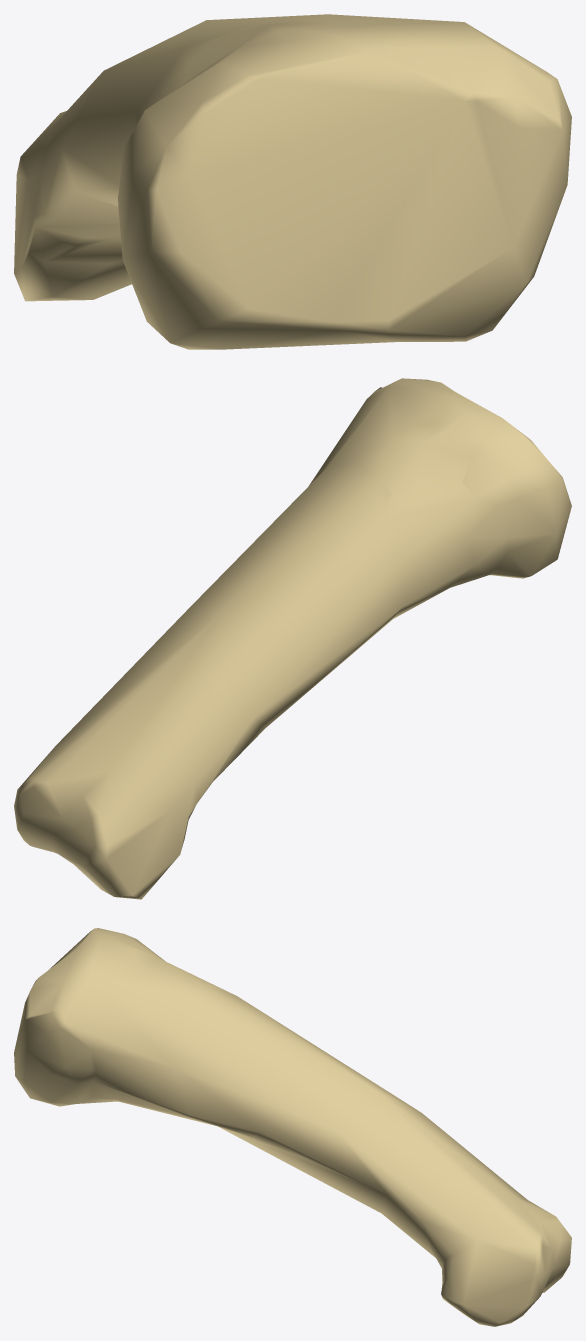
The picture shows the model from 3 angles, top to bottom: view 1: azimuth 30°, elevation 25°; view 2: azimuth 150°, elevation 25°; view 3: azimuth 270°, elevation 25°; orthographic projection. The views are drawn at different scales.
Visible parts, largest first — view 1: 左侧第二指近节指骨; view 2: 左侧第二指近节指骨; view 3: 左侧第二指近节指骨.
Boxes of the visible parts, box(x1,y1,x2,y2) form: 左侧第二指近节指骨: box(14, 14, 571, 349); 左侧第二指近节指骨: box(14, 378, 571, 899); 左侧第二指近节指骨: box(14, 928, 571, 1326).
Size of the model in its own units: 0.0335 by 0.0349 by 0.0573.
